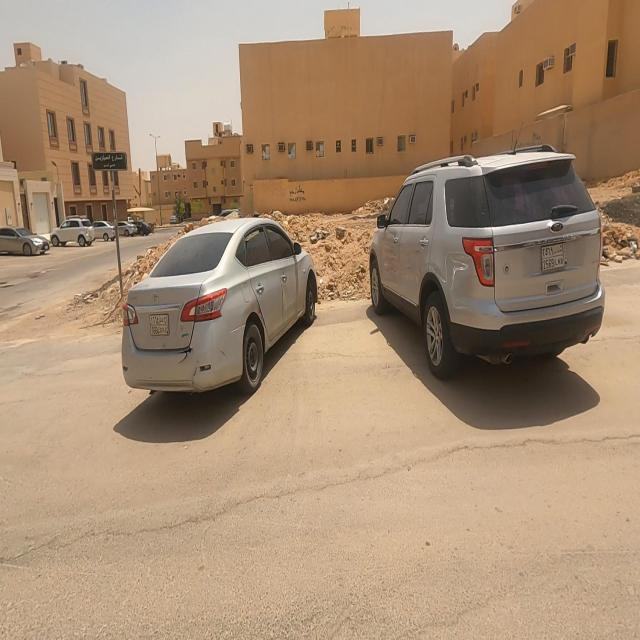Graffiti: (290, 186, 306, 205)
